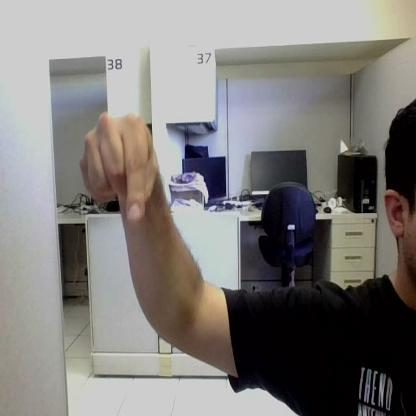Q: (81, 113, 156, 220)
